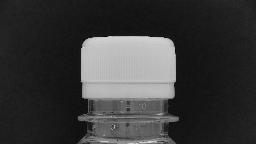Loose Cap: (72, 78, 182, 127)
